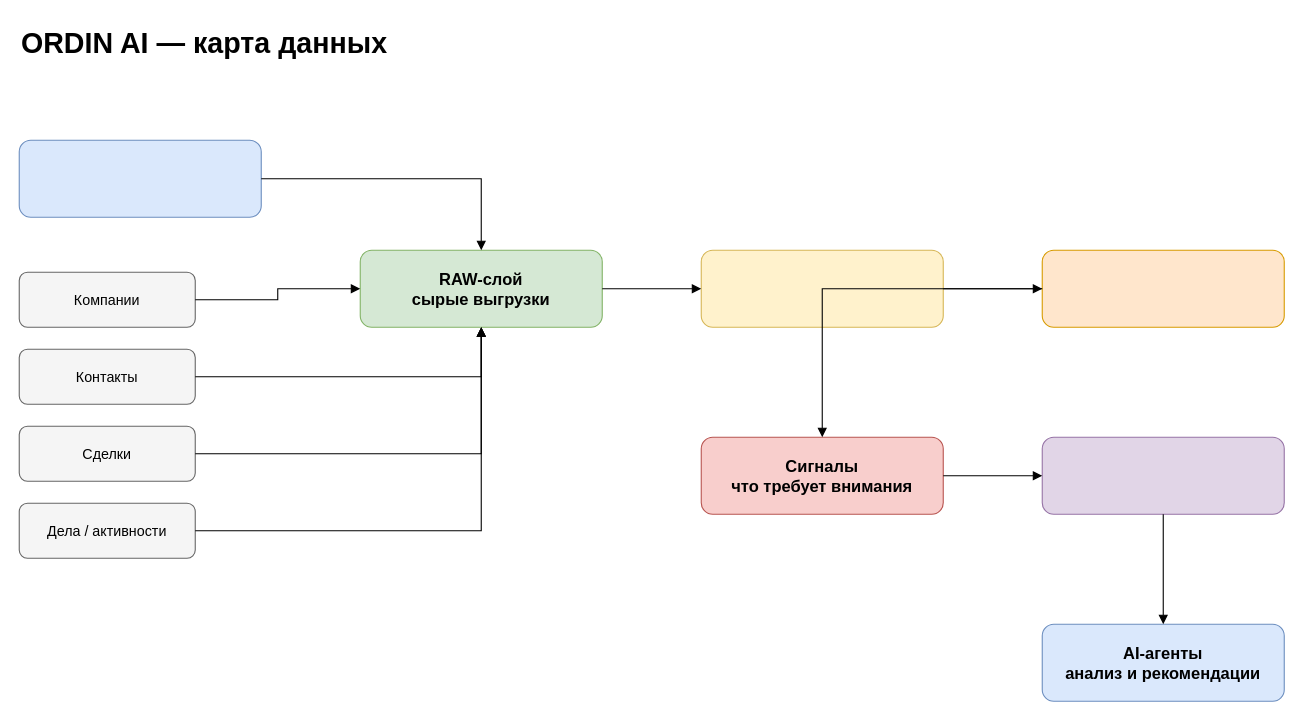
The diagram is 1304 pixels wide and 721 high, and some of its shapes have lost their labels. Each missing label, with the box of its shape:
Bitrix24 источник данных: (18, 139, 261, 217)
Агрегация связи и метрики: (1041, 249, 1284, 327)
Дашборды управленческий обзор: (1041, 436, 1284, 514)
Обработка чистые таблицы: (700, 249, 943, 327)
